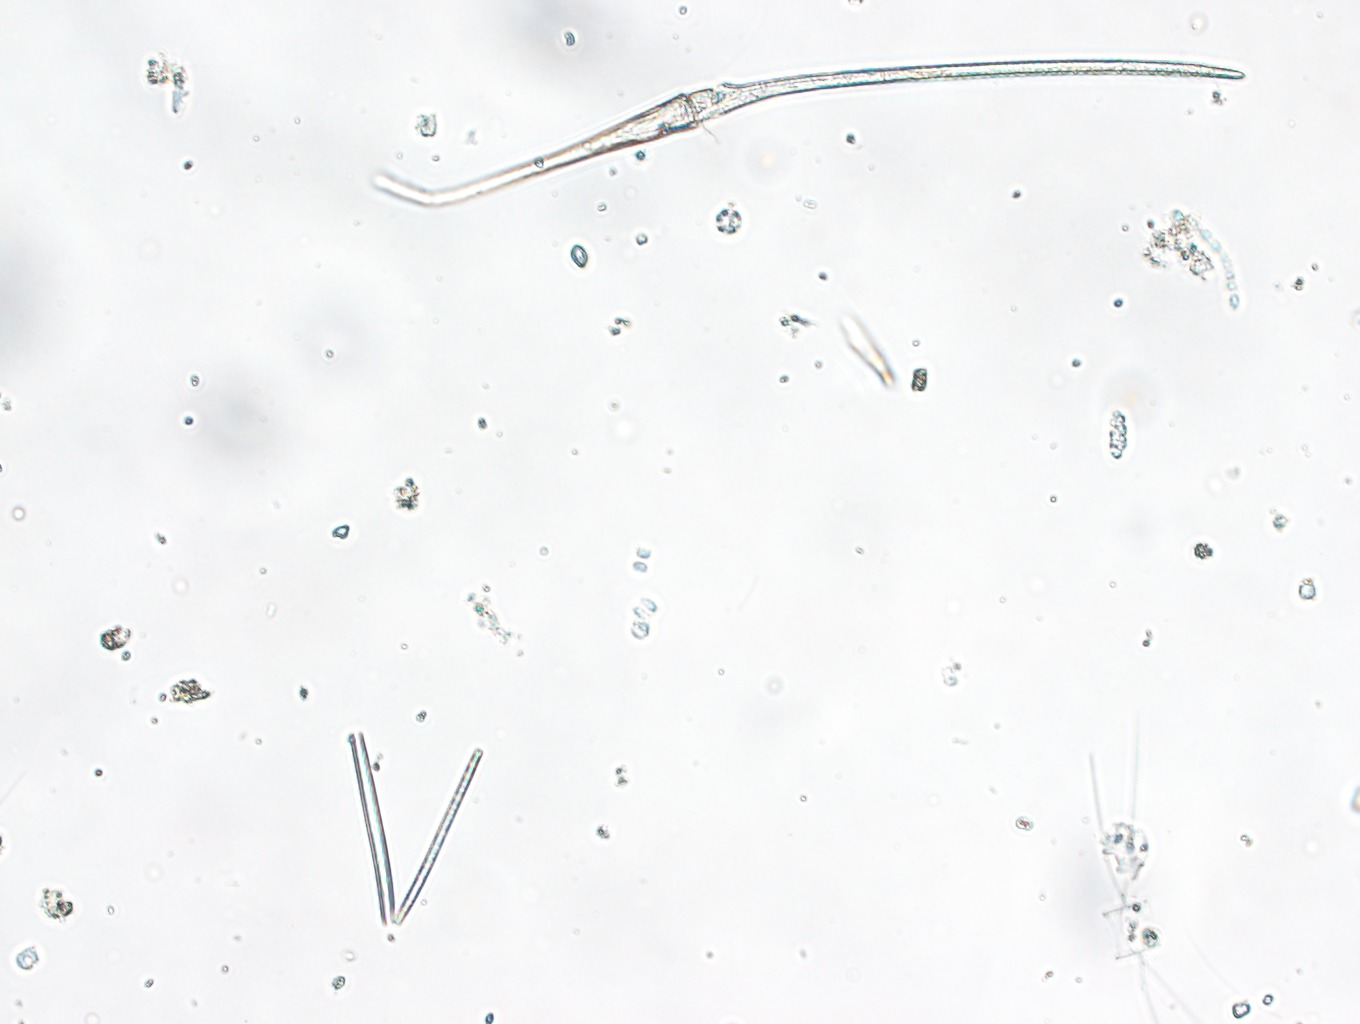ceratium fusus: (345, 55, 1279, 215)
chaetoceros: (1053, 717, 1230, 1024)
thalassionema frauenfeldii: (341, 722, 489, 934)
